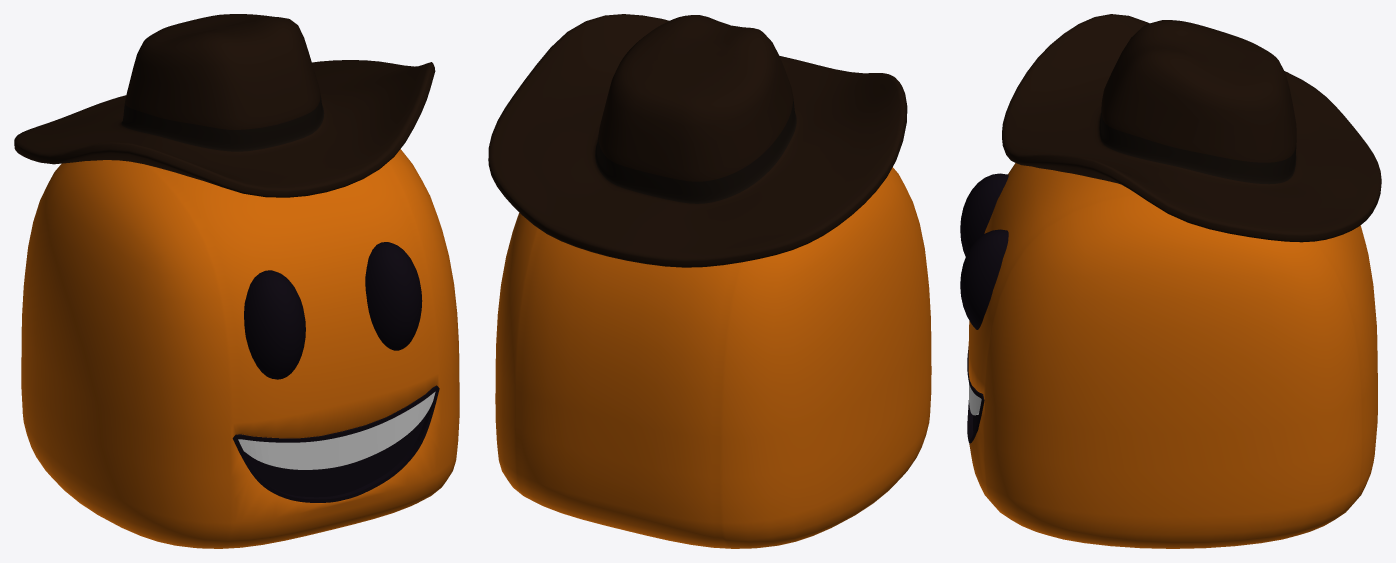
File: Emoji 068 cowboy hat face.fbx
3 views of the same model, side by side, from view 1: azimuth 30°, elevation 25°; view 2: azimuth 150°, elevation 25°; view 3: azimuth 270°, elevation 25° (orthographic).
Parts seen in each view (by area): view 1: Emoji 068 cowboy hat face, Cylinder.021, Mouth.011, Eyes.074; view 2: Emoji 068 cowboy hat face, Cylinder.021; view 3: Emoji 068 cowboy hat face, Cylinder.021, Eyes.074, Mouth.011.
Part boxes in pixels (x1,y1,x2,y2): Emoji 068 cowboy hat face: [21, 149, 459, 548]; Cylinder.021: [14, 14, 435, 197]; Mouth.011: [232, 385, 439, 502]; Eyes.074: [244, 242, 422, 379]; Emoji 068 cowboy hat face: [495, 167, 931, 548]; Cylinder.021: [488, 14, 907, 267]; Emoji 068 cowboy hat face: [968, 163, 1377, 548]; Cylinder.021: [1002, 14, 1381, 242]; Eyes.074: [960, 173, 1008, 329]; Mouth.011: [967, 346, 984, 443].
Bounding box in the file's own units: 102 × 103 × 121.
